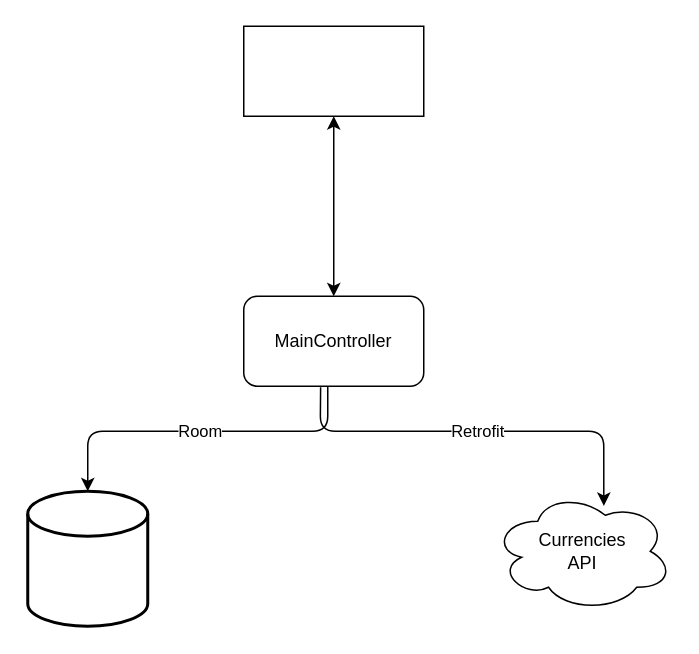
The diagram is 699 pixels wide and 654 high, and some of its shapes have lost their labels. The centre of each missing label's shape, as x and y in pixels:
MainActivity: point (333, 70)
SQLite Database: point (87, 558)
